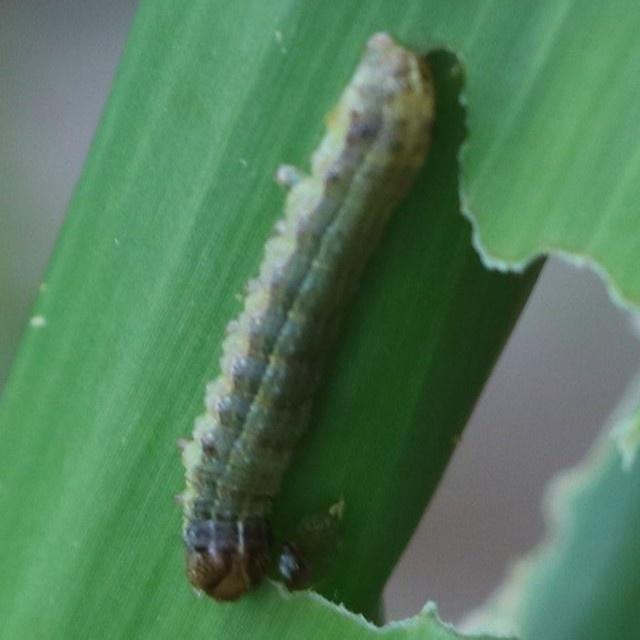gusano_cogollero: (174, 29, 441, 606)
